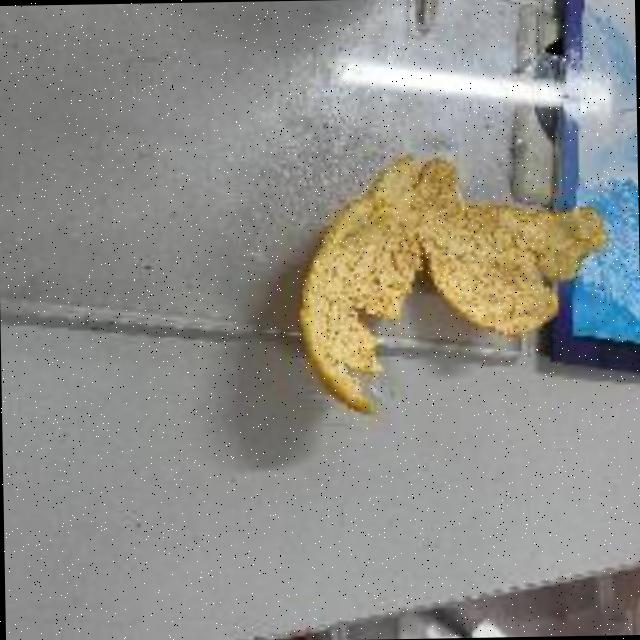orange-peel: (290, 144, 610, 415)
